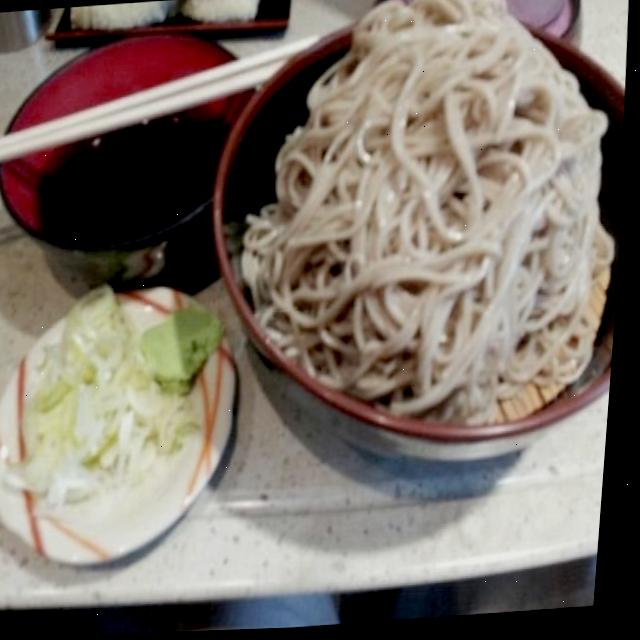面条主食: (215, 0, 640, 465)
